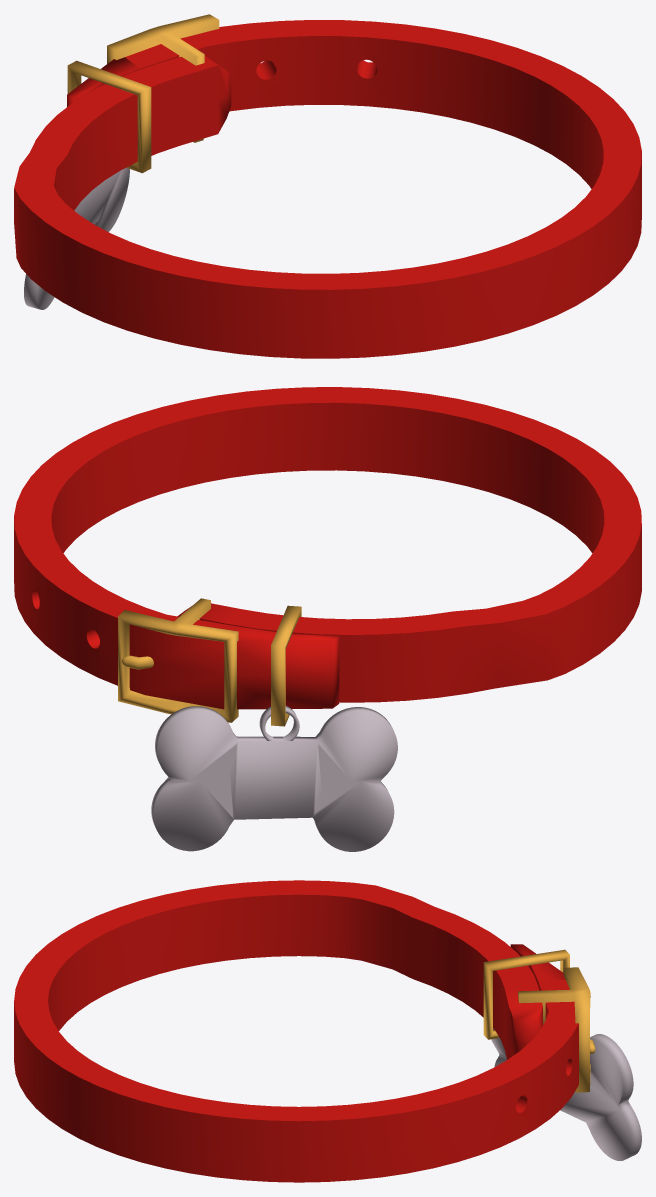
File: collar.fbx
3 views of the same model, one above another, from view 1: azimuth 30°, elevation 25°; view 2: azimuth 150°, elevation 25°; view 3: azimuth 270°, elevation 25° (orthographic). The views are drawn at different scales.
Parts seen in each view (by area): view 1: Torus, Cube, tag, Cube.001; view 2: Torus, tag, Cube, Cube.001; view 3: Torus, tag, Cube, Cube.001.
Part boxes in pixels (left/top/right/bottom): Torus: left=14, top=20, right=641, bottom=358; Cube: left=107, top=14, right=219, bottom=142; tag: left=24, top=167, right=129, bottom=309; Cube.001: left=67, top=60, right=151, bottom=173; Torus: left=14, top=387, right=641, bottom=709; tag: left=151, top=706, right=397, bottom=851; Cube: left=118, top=598, right=238, bottom=722; Cube.001: left=271, top=605, right=301, bottom=726; Torus: left=14, top=880, right=578, bottom=1182; tag: left=491, top=1028, right=641, bottom=1160; Cube: left=518, top=967, right=590, bottom=1092; Cube.001: left=483, top=949, right=569, bottom=1039.
Bounding box in the file's own units: 0.6688 × 0.2482 × 0.7367.
